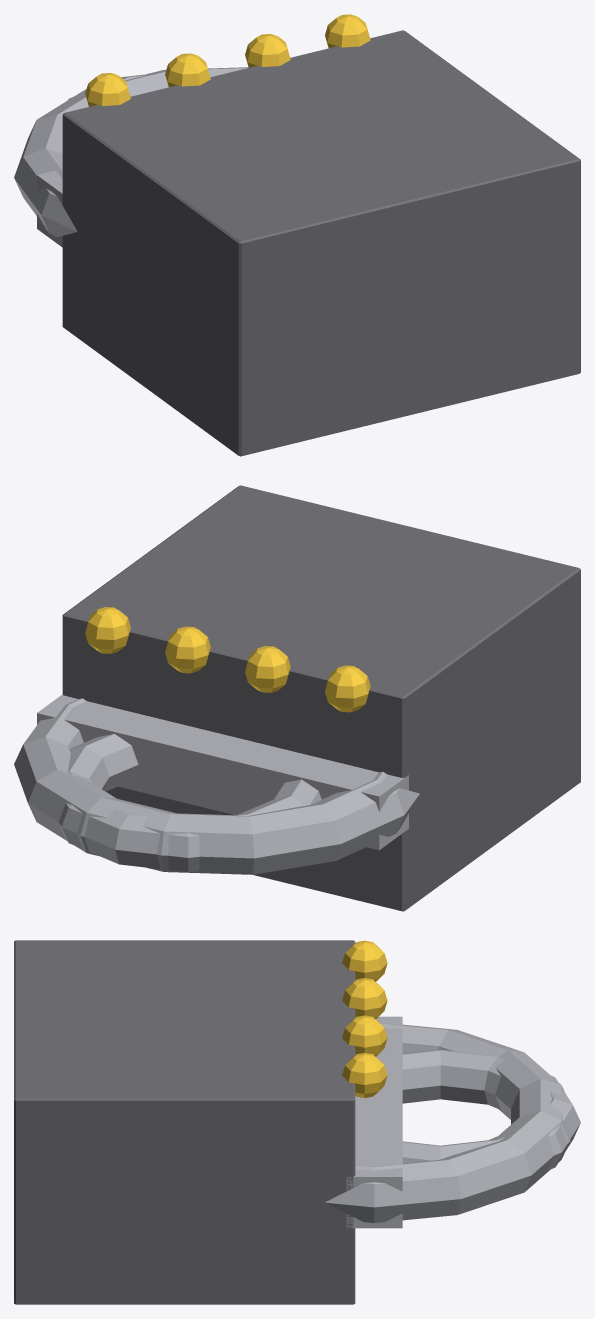
Rendered from bullbar-guard.glb.
The picture shows the model from 3 angles, top to bottom: view 1: azimuth 30°, elevation 25°; view 2: azimuth 150°, elevation 25°; view 3: azimuth 270°, elevation 25°; orthographic projection. The views are drawn at different scales.
Visible parts, largest first — view 1: plate, hoop1, rivet, rivet.002, rivet.003, rivet.001, cross; view 2: plate, hoop1, cross, hoop2, rivet, rivet.003, rivet.001, rivet.002; view 3: plate, hoop1, hoop2, cross, rivet, rivet.003, rivet.001, rivet.002.
Part boxes in pixels (x1,y1,x2,y2): plate: (62,30,580,456); hoop1: (14,67,248,237); rivet: (325,14,370,48); rivet.002: (165,53,210,87); rivet.003: (245,34,290,67); rivet.001: (85,73,130,106); cross: (37,170,62,247); plate: (62,485,580,911); hoop1: (14,698,419,874); cross: (37,694,408,850); hoop2: (58,734,321,872); rivet: (85,607,130,653); rivet.003: (165,626,210,673); rivet.001: (325,665,370,712); rivet.002: (245,646,290,692); plate: (14,940,355,1304); hoop1: (325,1023,570,1222); hoop2: (402,1049,580,1170); cross: (346,1016,402,1228); rivet: (342,1053,387,1097); rivet.003: (342,1015,387,1056); rivet.001: (342,940,387,981); rivet.002: (342,978,387,1018).
Bounding box in the file's own units: 0.212 × 0.132 × 0.299.
